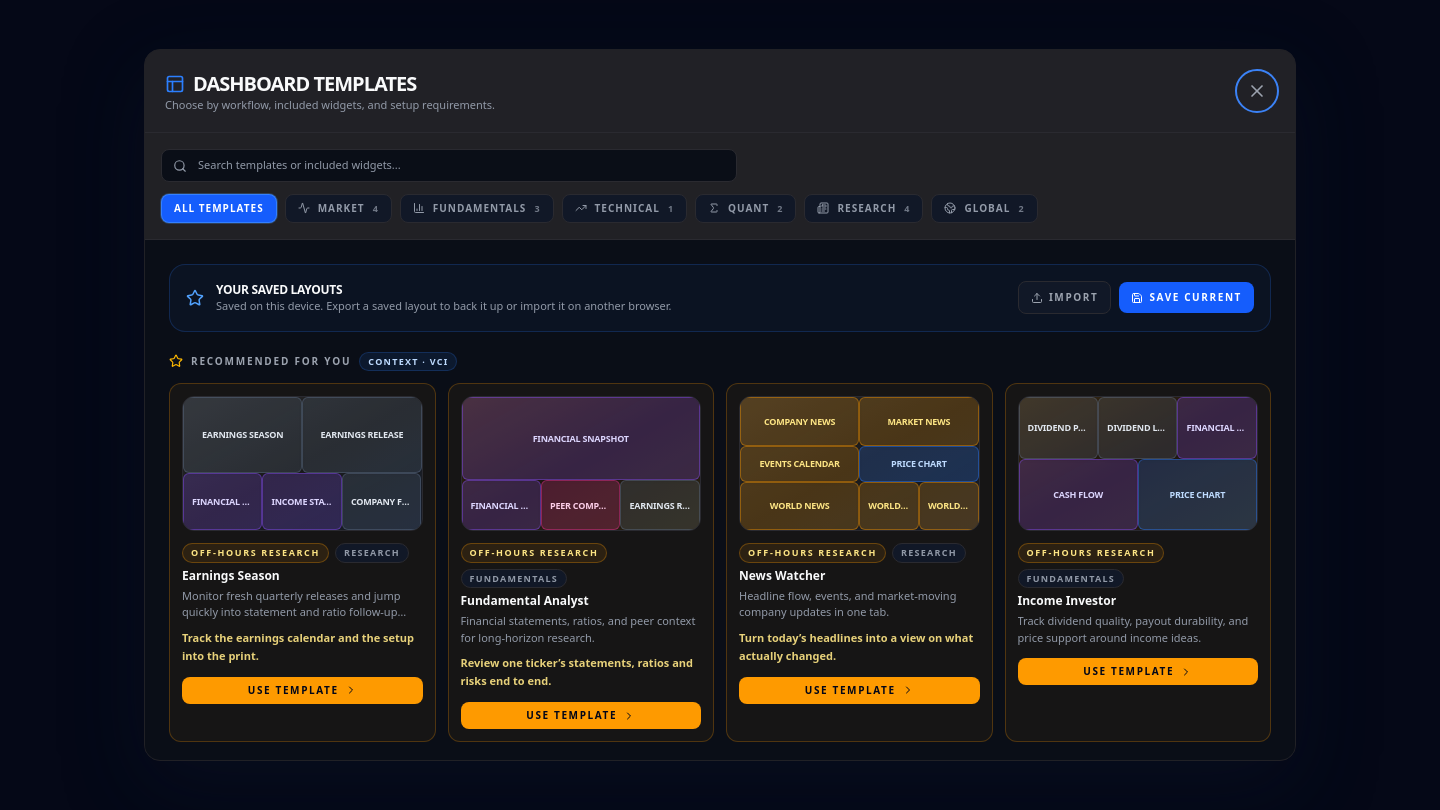
it: TemplateSelector › shows a non-destructive error when saved layouts cannot be written
Click the button "Save current" at (1187, 298), box [1119, 282, 1254, 313]
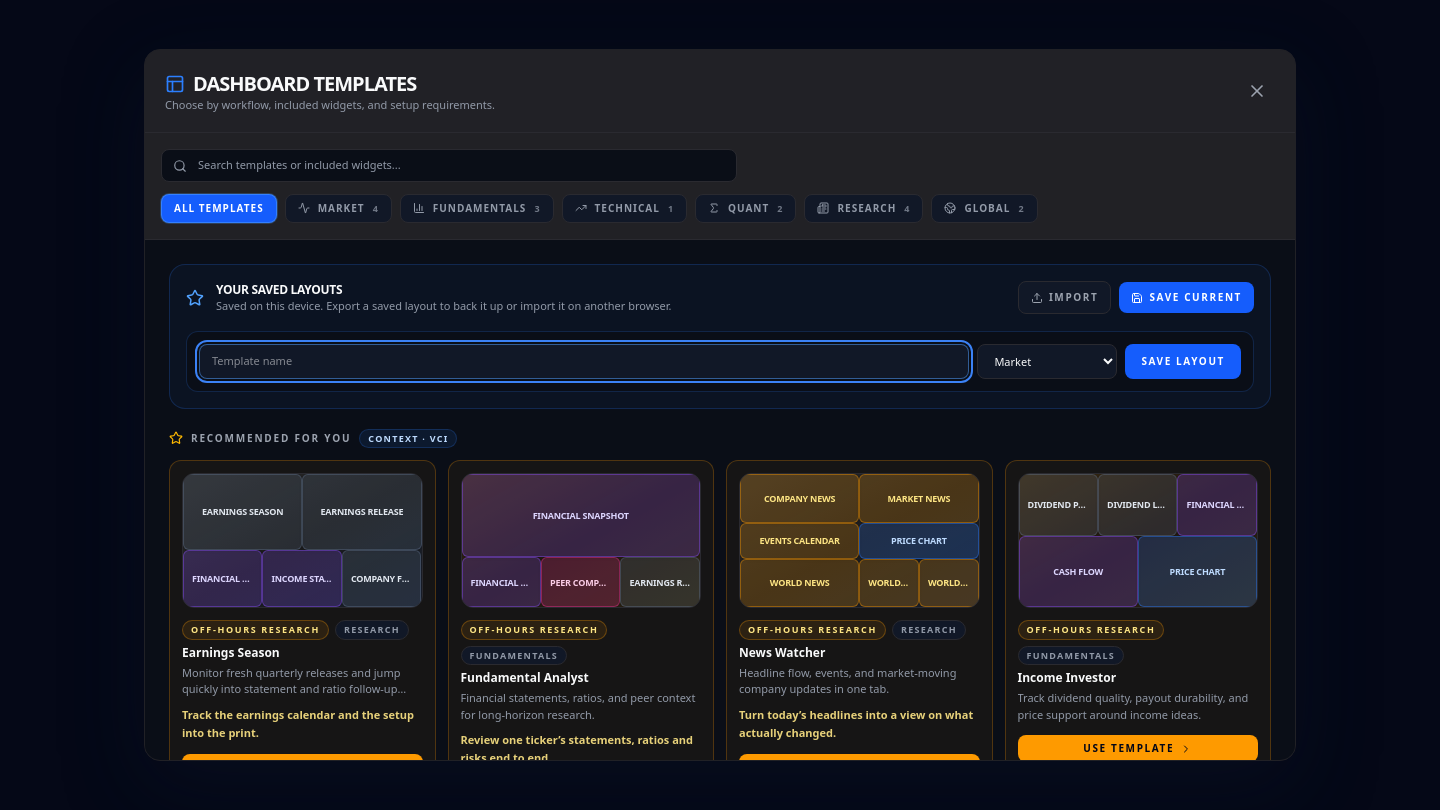
Type "Quota Layout" into the field with placeholder "Template name" at (584, 361), box [199, 344, 969, 378]
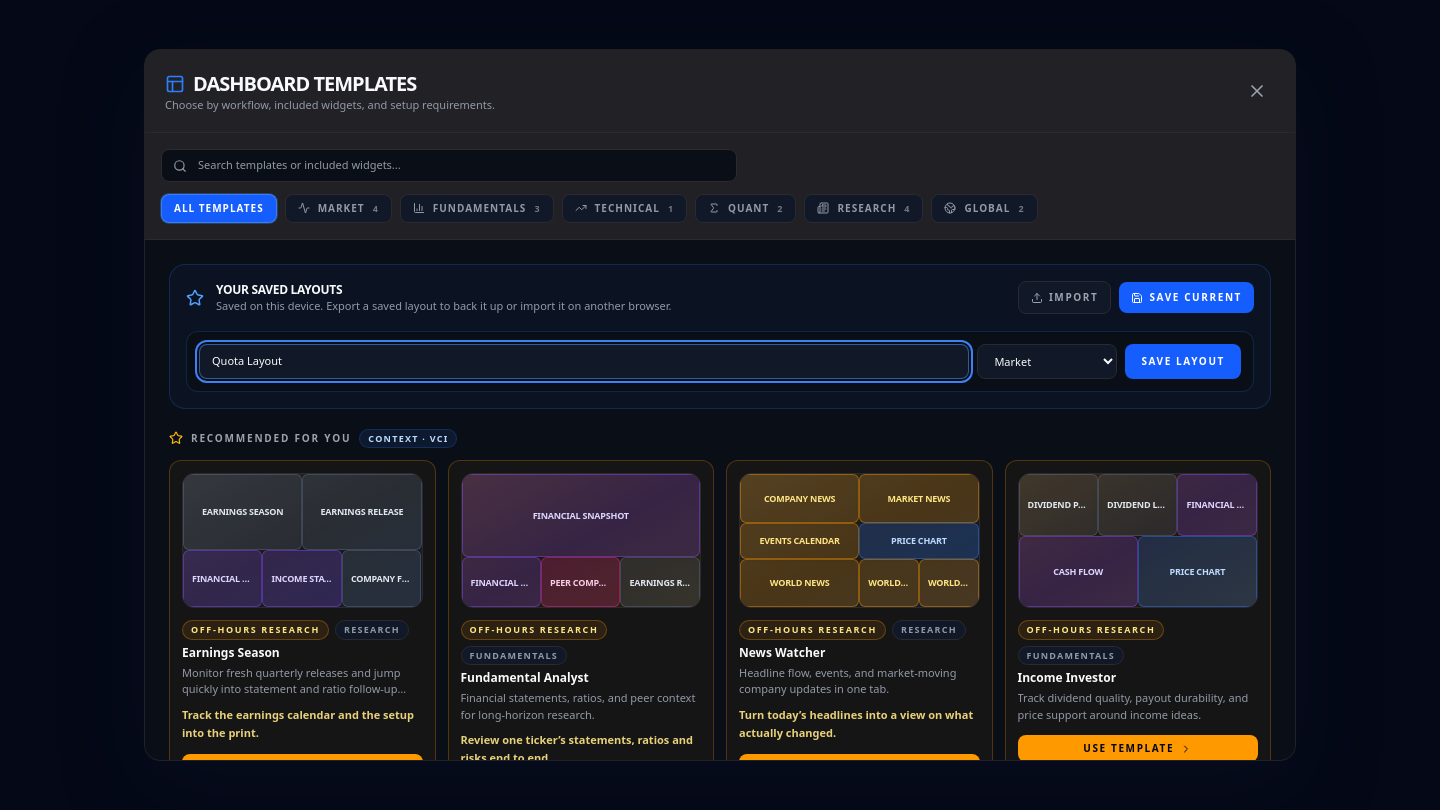
Click the button "Save layout" at (1183, 361), box [1125, 344, 1241, 378]
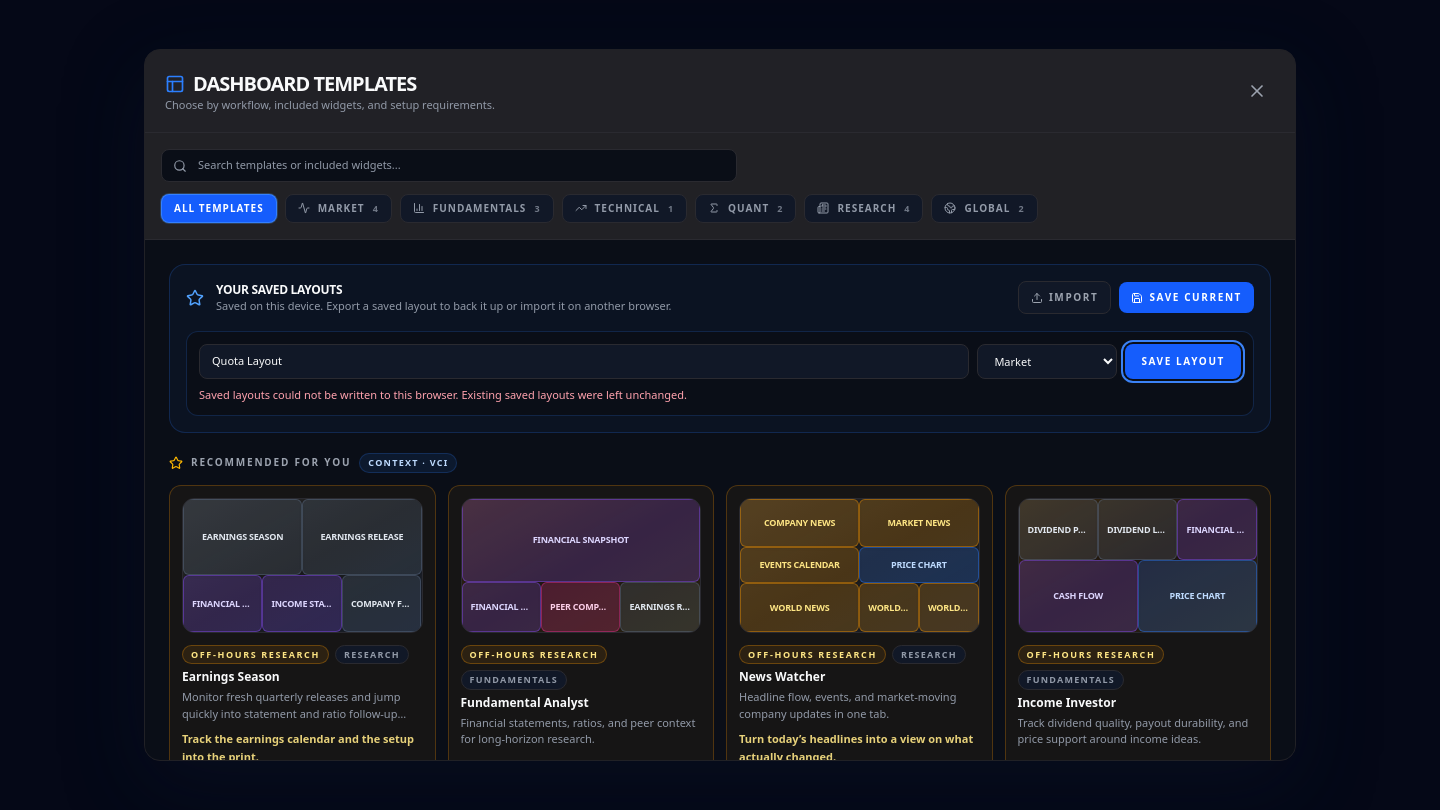
Now the text "Saved layouts could not be written to this browser. Existing saved layouts were left unchanged." is shown, box [199, 386, 687, 402]
